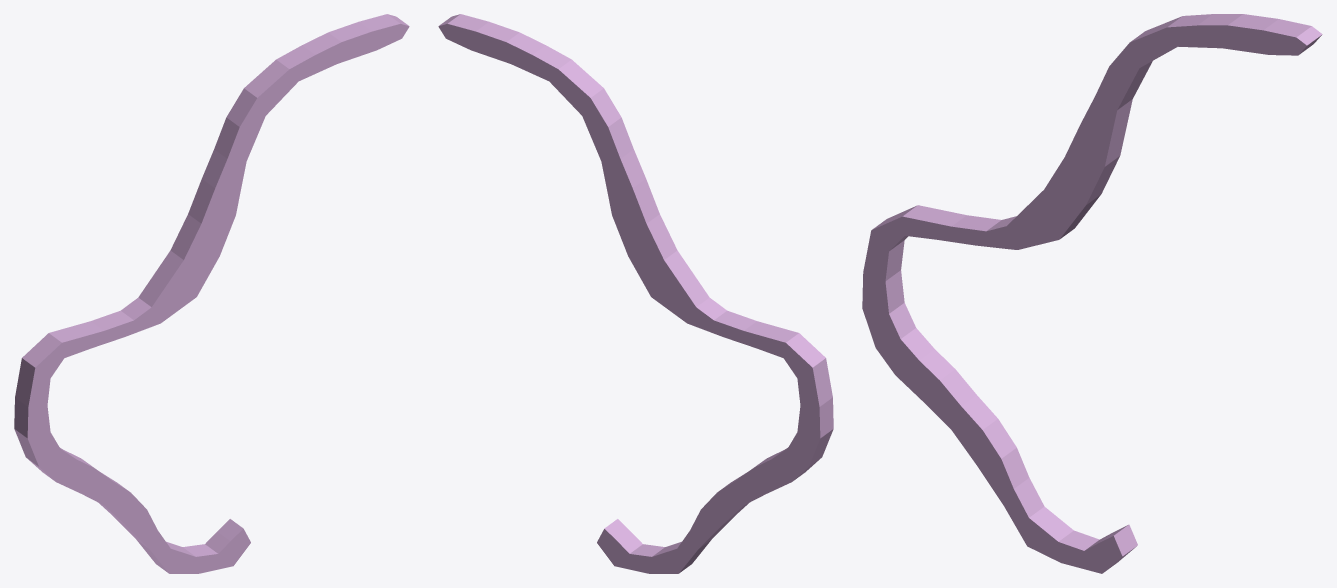
Rendered from Worm.obj.
The picture shows the model from 3 angles, left to right: view 1: azimuth 30°, elevation 25°; view 2: azimuth 150°, elevation 25°; view 3: azimuth 330°, elevation 25°; orthographic projection. The views are drawn at different scales.
Parts seen in each view (by area): view 1: Worm_1, Worm_0; view 2: Worm_1, Worm_0; view 3: Worm_1, Worm_0.
Boxes of the visible parts, <box> form: Worm_1: <box>27,24,409,573</box>; Worm_0: <box>14,14,408,573</box>; Worm_1: <box>438,24,820,573</box>; Worm_0: <box>439,14,833,573</box>; Worm_1: <box>862,25,1306,573</box>; Worm_0: <box>872,14,1322,571</box>.
Bounding box in the file's own units: 12.65 × 15.87 × 0.7681.
